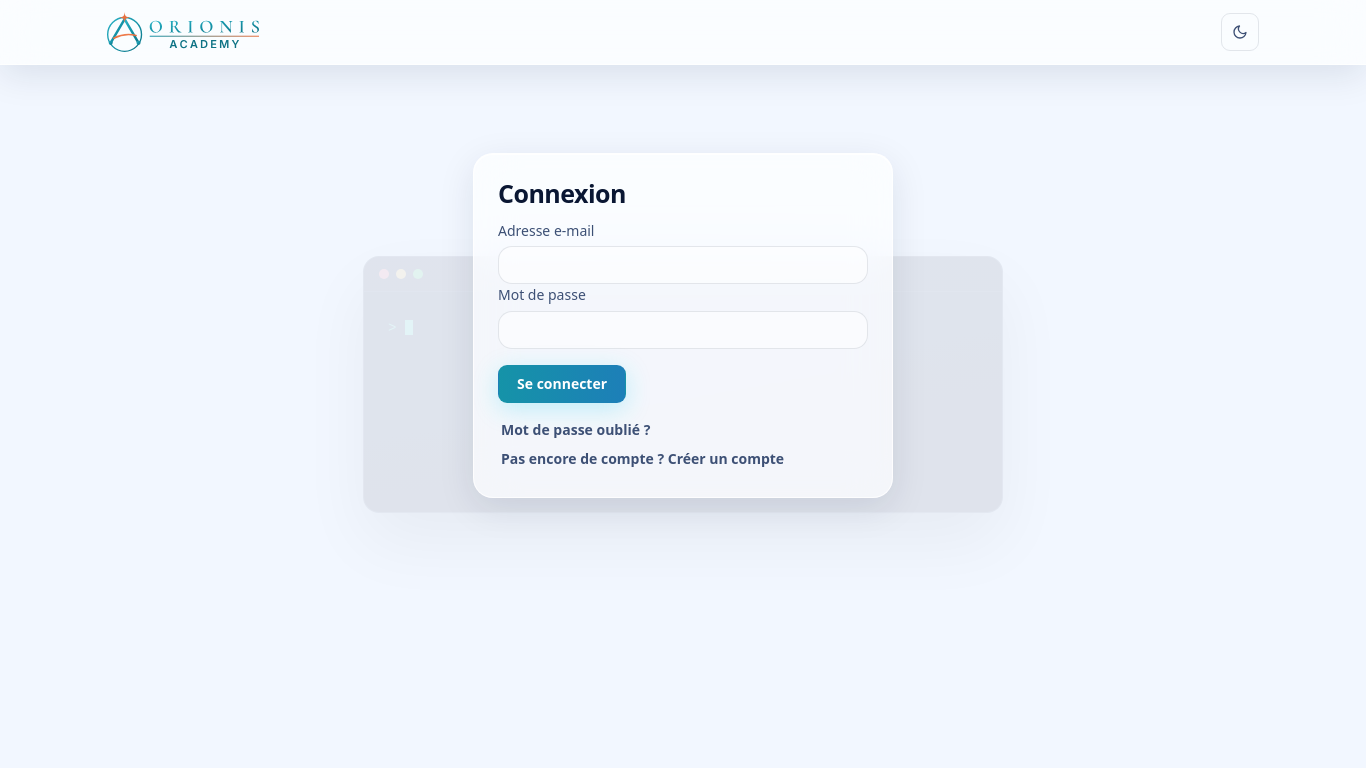
Scenario: AuthScreen › shows the server's error message on a failed login
Type "a@b.com" into the field labelled "Adresse e-mail" at (683, 265), box [498, 246, 868, 284]
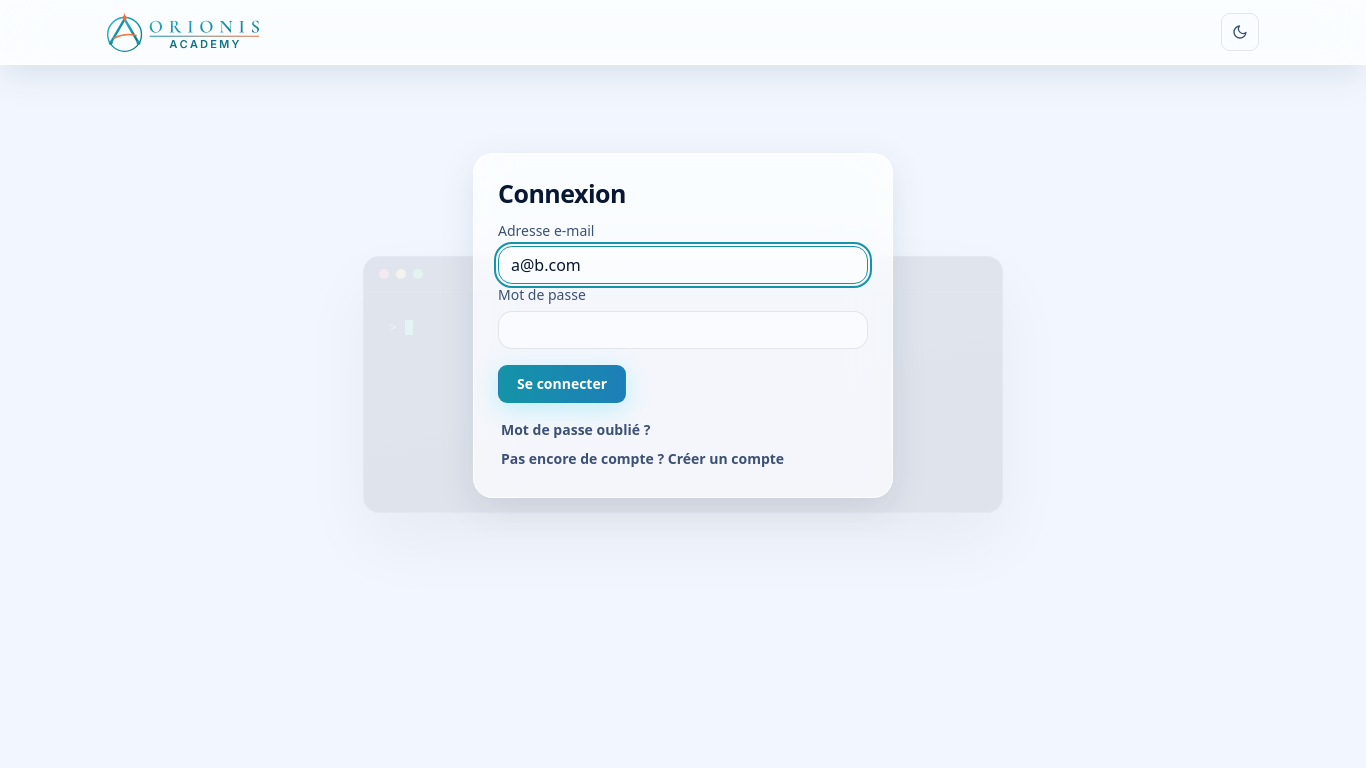
Type "mauvais" into the password field labelled "Mot de passe" at (683, 330), box [498, 311, 868, 349]
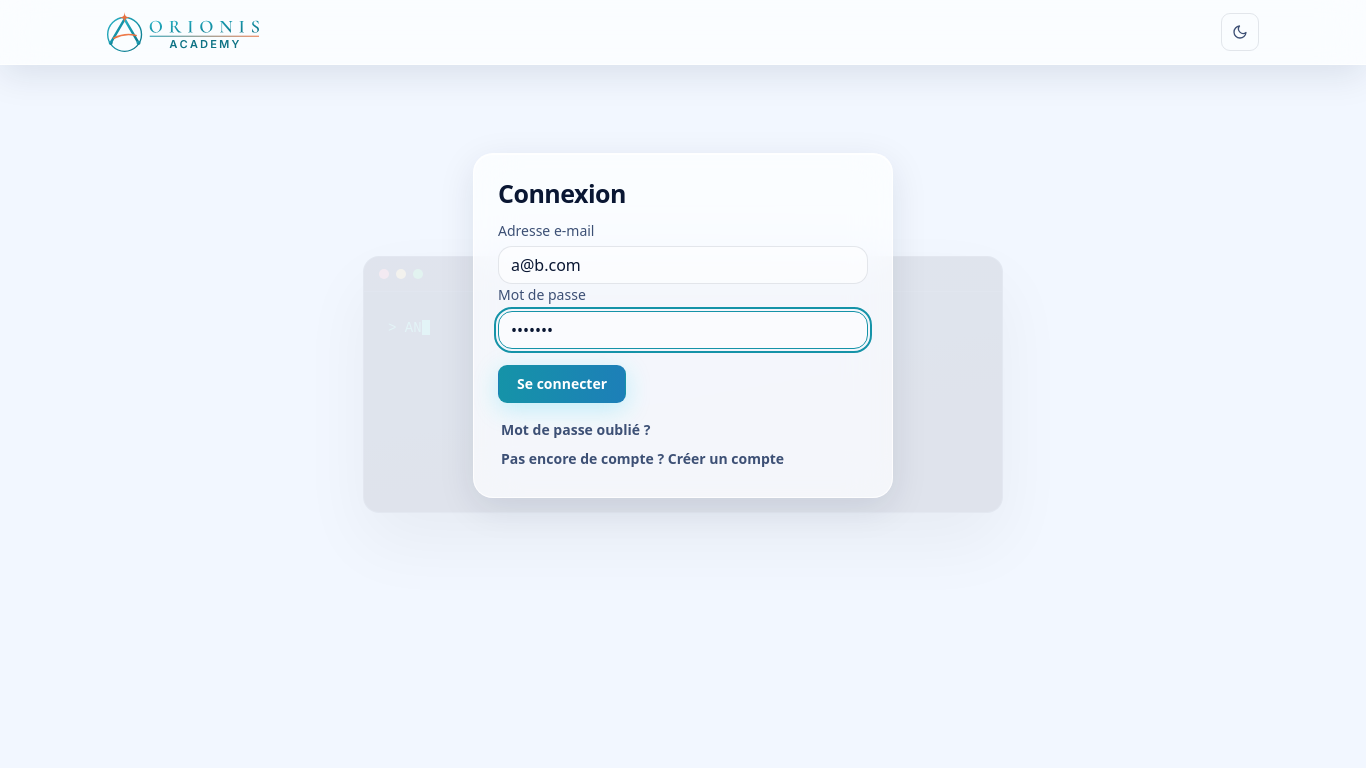
Click the button "Se connecter" at (562, 384), box [498, 365, 626, 403]
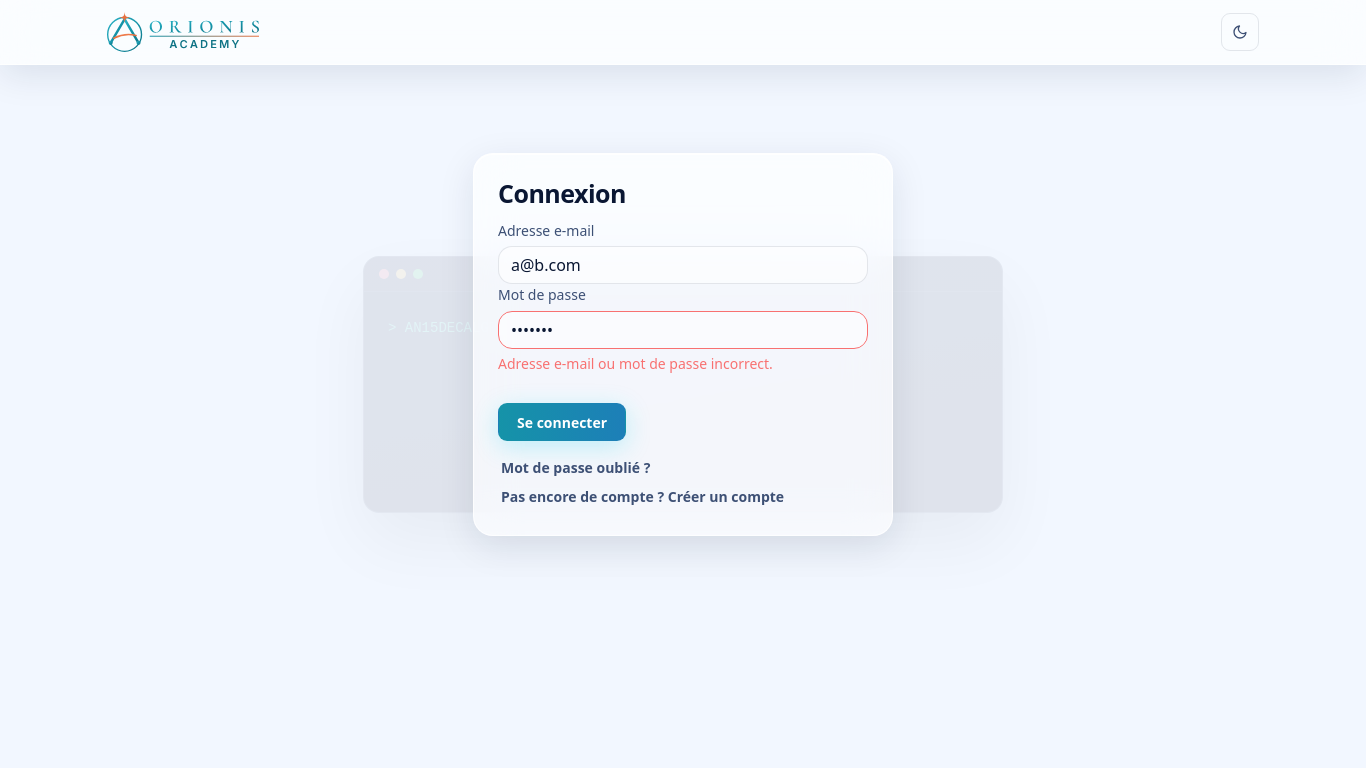
Expected: the message shows "incorrect", [498, 354, 773, 373]
